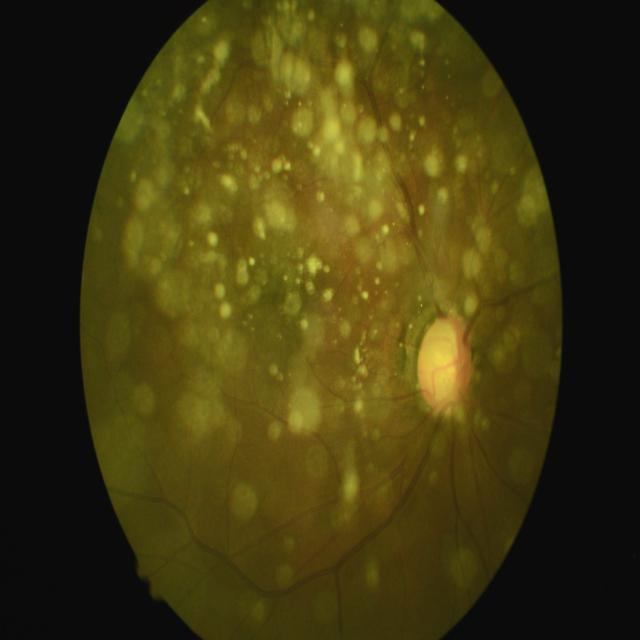cup: (426, 325, 462, 403)
disk: (417, 316, 472, 414)
